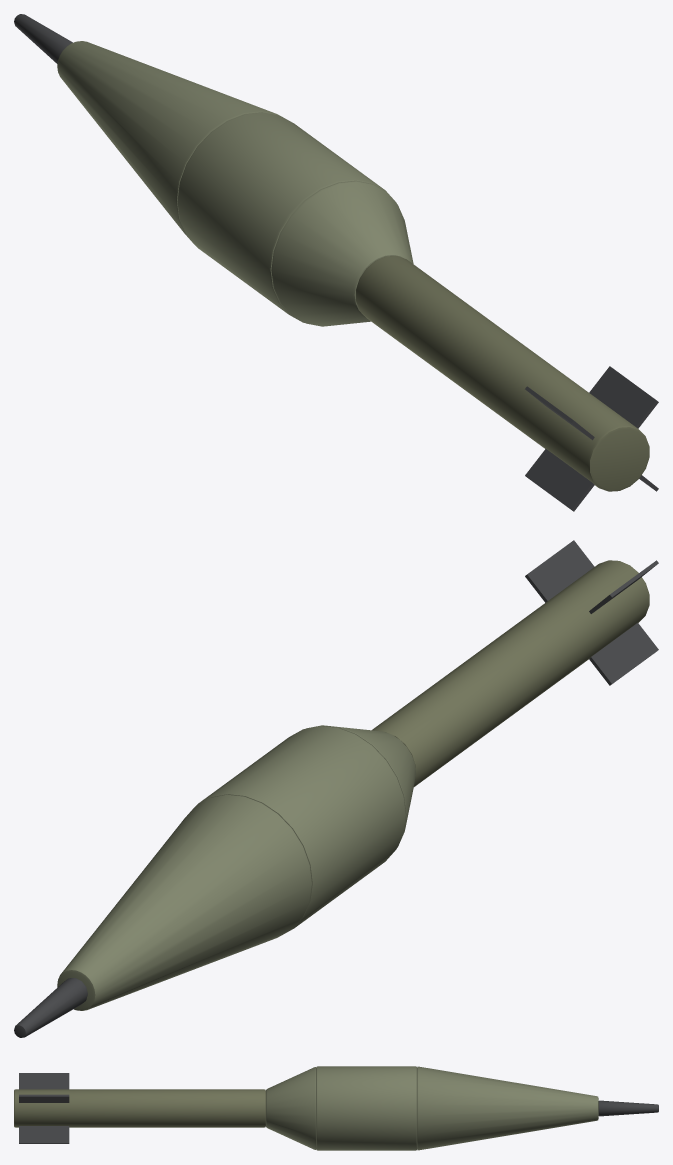
The model's file is rpg_rocket.glb.
3 renders of one model, top to bottom at view 1: azimuth 30°, elevation 25°; view 2: azimuth 150°, elevation 25°; view 3: azimuth 270°, elevation 25°, orthographic. The views are drawn at different scales.
Parts seen in each view (by area): view 1: rocket_motor, rocket_warhead, rocket_ogive, rocket_neck, rocket_fin1, rocket_fin3, rocket_spike; view 2: rocket_ogive, rocket_motor, rocket_warhead, rocket_fin1, rocket_fin3, rocket_neck, rocket_spike; view 3: rocket_ogive, rocket_motor, rocket_warhead, rocket_neck, rocket_fin2, rocket_fin0, rocket_spike, rocket_fin3.
Part boxes in pixels (x1,y1,x2,y2): rocket_motor: [356, 255, 649, 491]; rocket_warhead: [177, 112, 396, 322]; rocket_ogive: [57, 41, 279, 245]; rocket_neck: [271, 181, 413, 326]; rocket_fin1: [525, 449, 594, 511]; rocket_fin3: [589, 366, 658, 428]; rocket_spike: [14, 14, 72, 63]; rocket_ogive: [57, 794, 311, 1010]; rocket_motor: [372, 560, 649, 786]; rocket_warhead: [196, 726, 405, 929]; rocket_fin1: [589, 623, 658, 685]; rocket_fin3: [525, 540, 594, 602]; rocket_neck: [306, 725, 415, 847]; rocket_spike: [14, 978, 87, 1037]; rocket_ogive: [417, 1066, 598, 1150]; rocket_motor: [14, 1089, 265, 1127]; rocket_warhead: [316, 1066, 416, 1150]; rocket_neck: [266, 1067, 316, 1149]; rocket_fin2: [19, 1126, 69, 1143]; rocket_fin0: [19, 1073, 69, 1089]; rocket_spike: [598, 1100, 658, 1116]; rocket_fin3: [19, 1094, 69, 1102].
Bounding box in the file's own units: 0.084 × 0.084 × 0.64.
